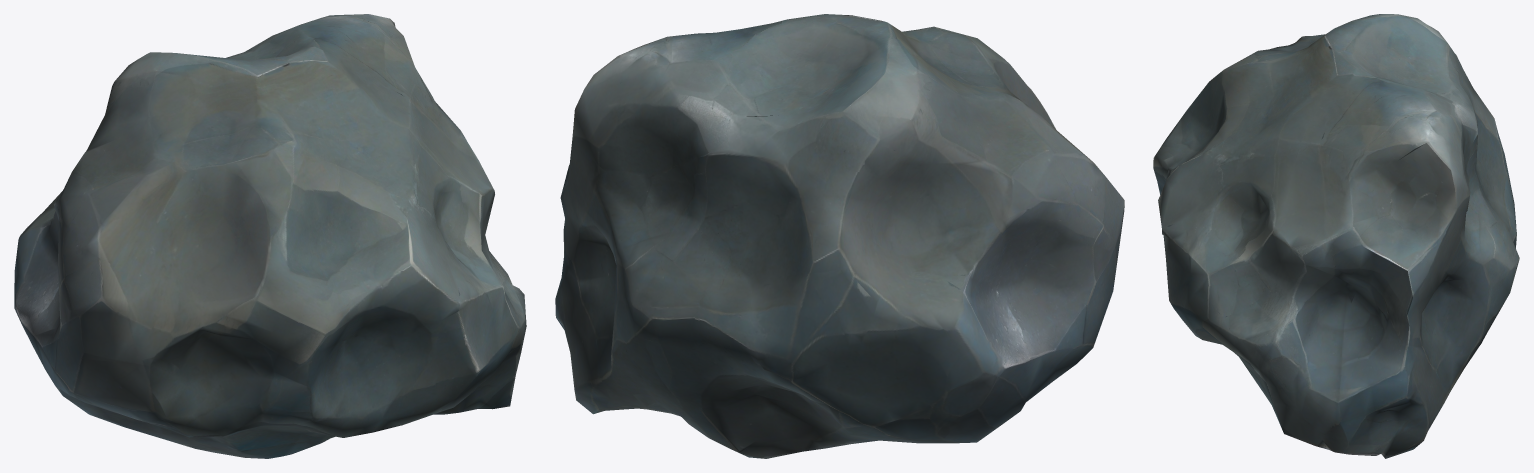
Rendered from Asteroid3.glb.
The picture shows the model from 3 angles, left to right: view 1: azimuth 30°, elevation 25°; view 2: azimuth 150°, elevation 25°; view 3: azimuth 270°, elevation 25°; orthographic projection. The views are drawn at different scales.
Size of the model in its own units: 2 by 1.63 by 1.64.
1 material, 1 textured.
